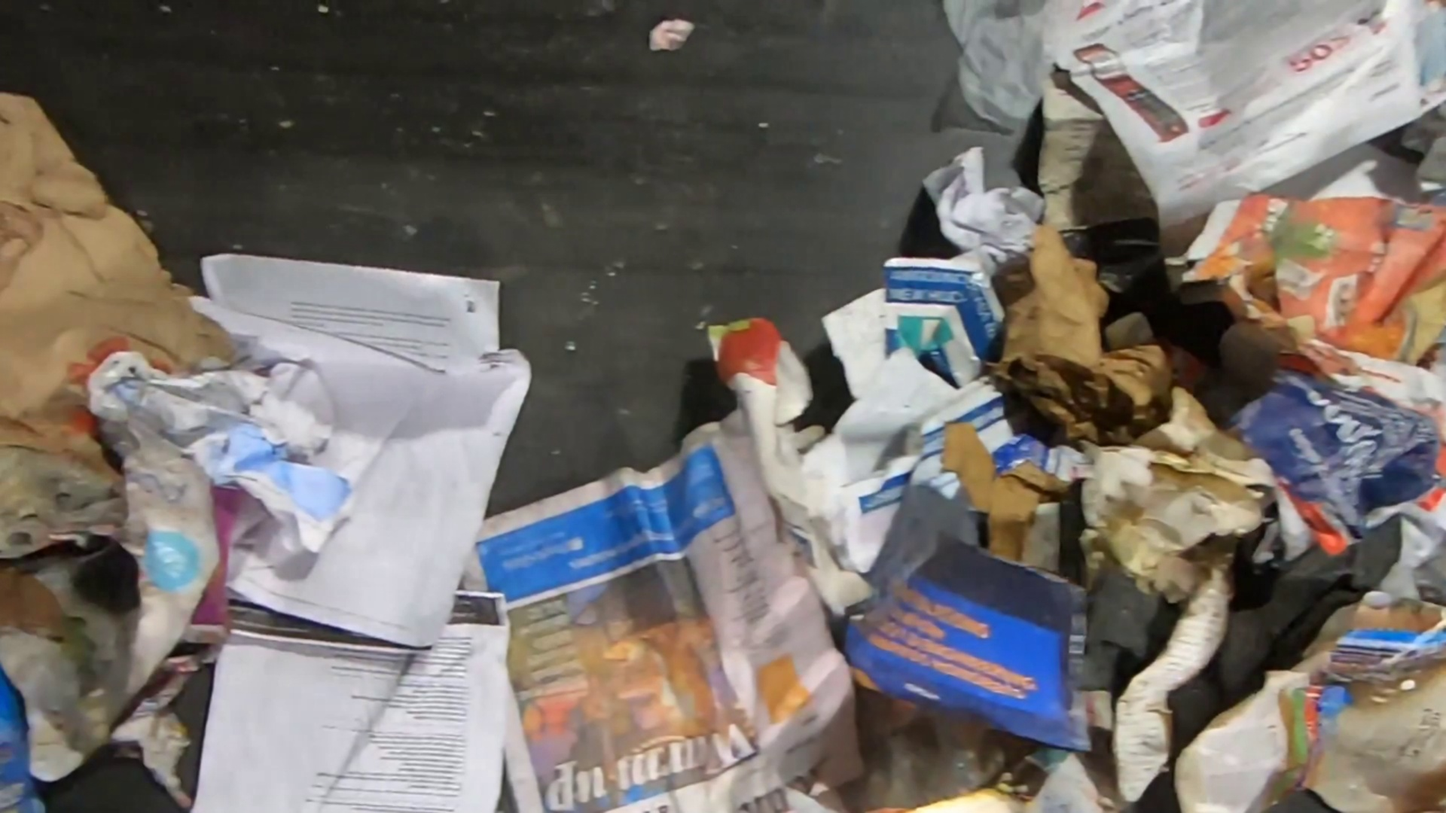cardboard: (0, 350, 363, 784), (840, 485, 1096, 754)
